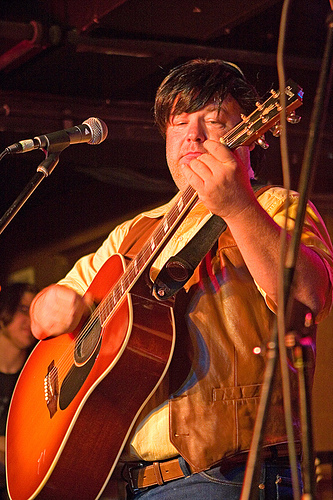guitar: (3, 83, 308, 500)
